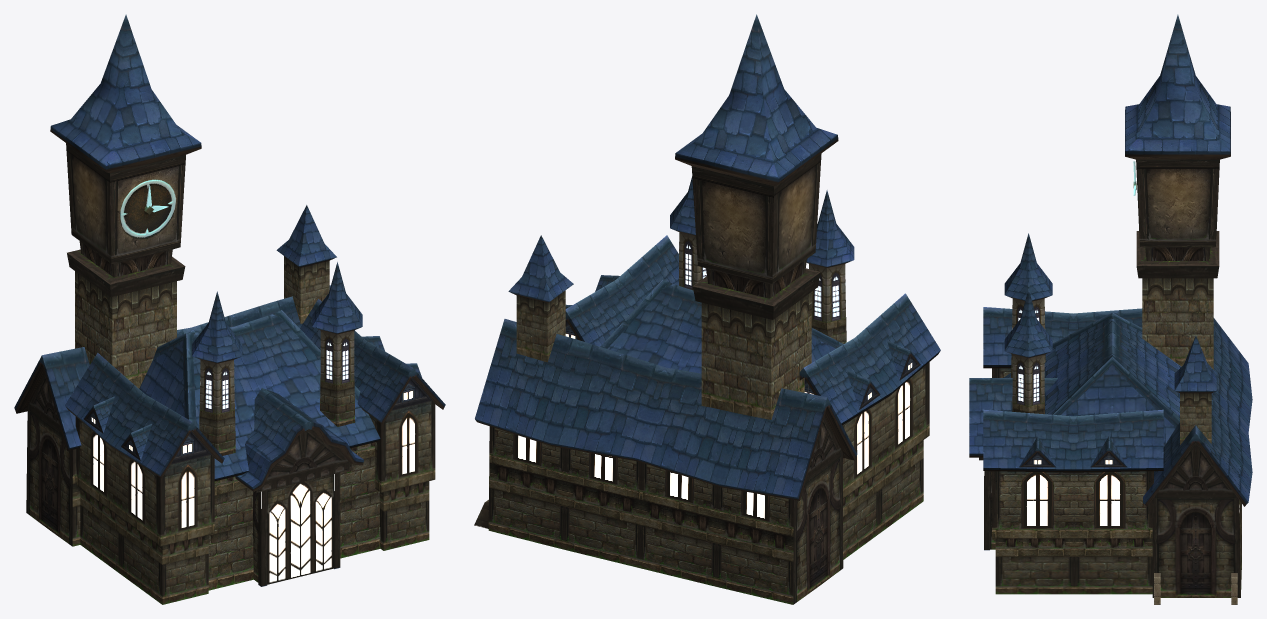
Rendered from LOD1_TownHall_Level03.FBX.
The picture shows the model from 3 angles, left to right: view 1: azimuth 30°, elevation 25°; view 2: azimuth 150°, elevation 25°; view 3: azimuth 270°, elevation 25°; orthographic projection. The views are drawn at different scales.
Visible parts, largest first — view 1: LOD1_TownHall_Level03; view 2: LOD1_TownHall_Level03; view 3: LOD1_TownHall_Level03.
Part boxes in pixels (box(x1,y1,x2,y2)): LOD1_TownHall_Level03: box(14, 14, 445, 604); LOD1_TownHall_Level03: box(474, 14, 940, 604); LOD1_TownHall_Level03: box(969, 14, 1252, 604).
Size of the model in its own units: 716 by 1137 by 603.
